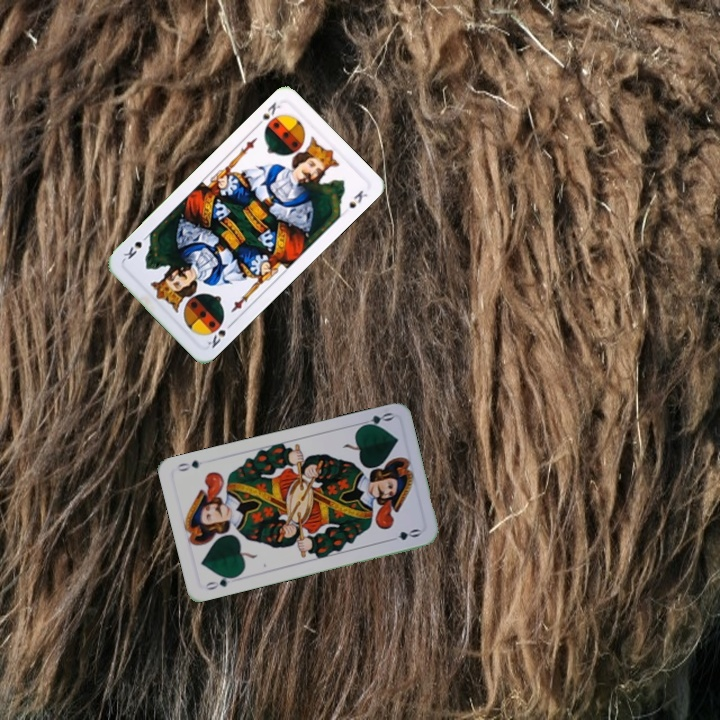GO: (355, 408, 395, 430), (201, 572, 240, 593)
SK: (203, 316, 236, 351), (251, 98, 284, 133)
